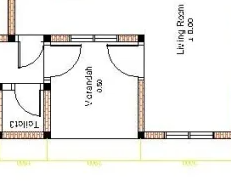door: (103, 41, 153, 79), (46, 42, 87, 82), (12, 80, 43, 119), (17, 33, 44, 75)
